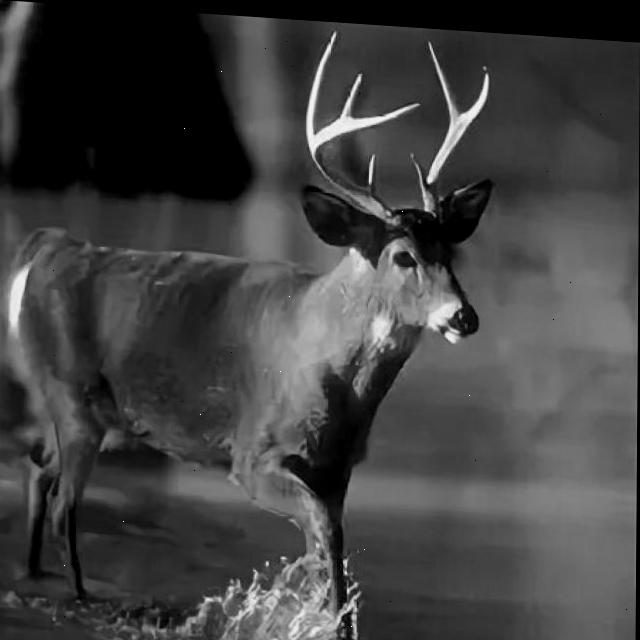Deer: (0, 86, 557, 615)
